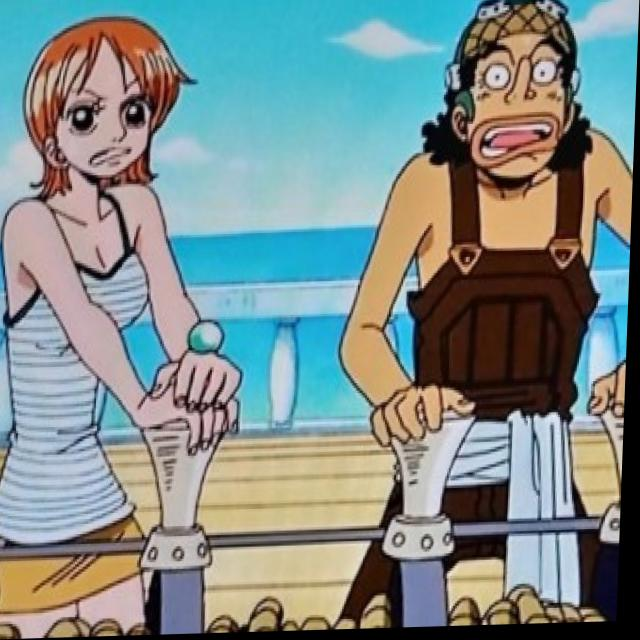Nami: (15, 8, 190, 200)
Usopp: (434, 0, 592, 204)
